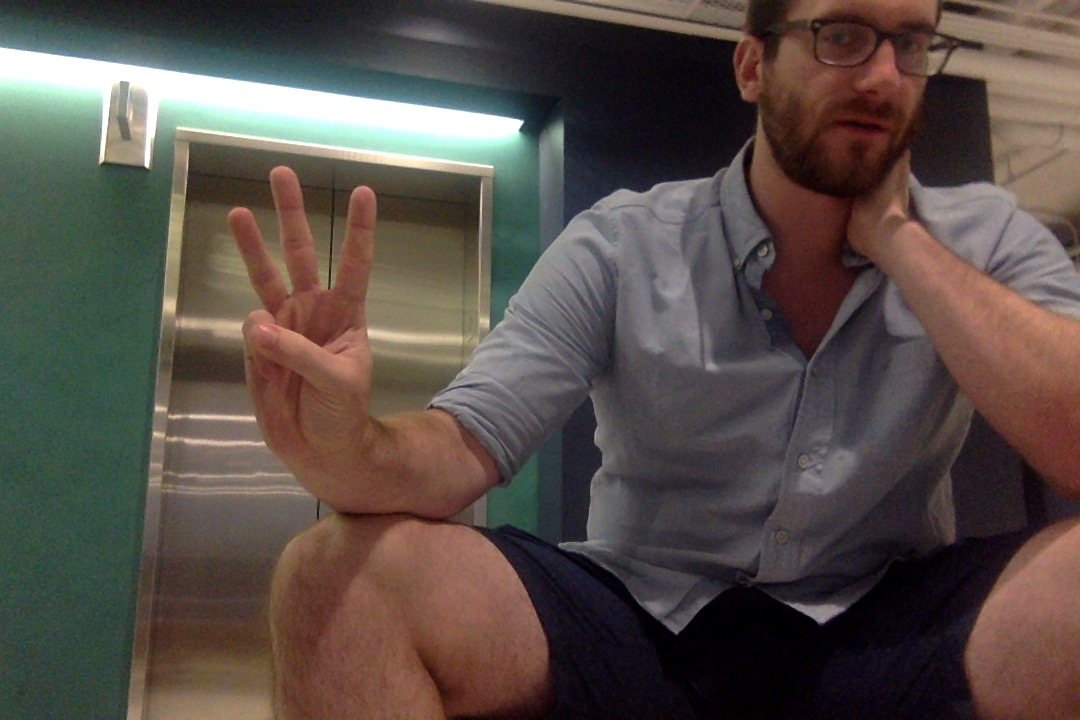w: (221, 164, 385, 464)
